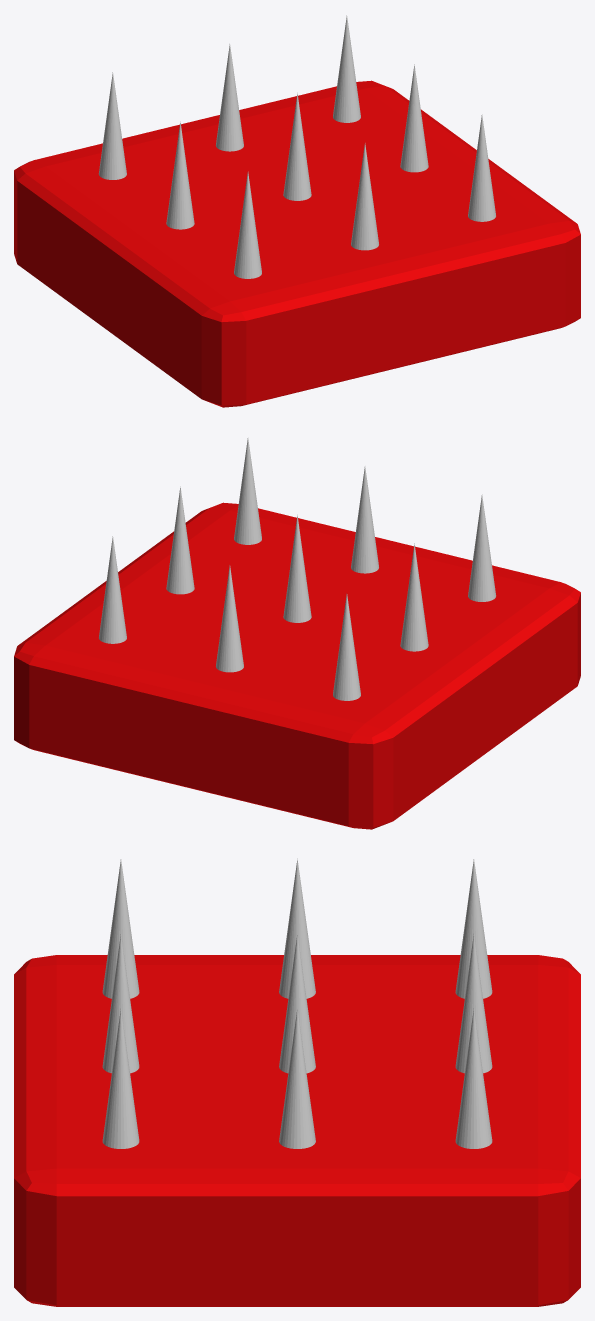
Rendered from hazard.glb.
3 views of the same model, one above another, from view 1: azimuth 30°, elevation 25°; view 2: azimuth 150°, elevation 25°; view 3: azimuth 270°, elevation 25° (orthographic). The views are drawn at different scales.
Parts seen in each view (by area): view 1: hazard, Cone.003, Cone, Cone.006, Cone.001, Cone.002, Cone.004, Cone.005, Cone.007, Cone.008; view 2: hazard, Cone.003, Cone, Cone.006, Cone.002, Cone.001, Cone.005, Cone.004, Cone.007, Cone.008; view 3: hazard, Cone.004, Cone.005, Cone.003, Cone.007, Cone.008, Cone.006, Cone.001, Cone.002, Cone.
Part boxes in pixels (<box>): hazard: <box>14,80,580,407</box>; Cone.003: <box>400,64,428,172</box>; Cone: <box>283,92,311,200</box>; Cone.006: <box>166,121,194,229</box>; Cone.001: <box>351,143,378,250</box>; Cone.002: <box>216,44,243,151</box>; Cone.004: <box>468,114,495,221</box>; Cone.005: <box>333,15,360,122</box>; Cone.007: <box>234,171,261,278</box>; Cone.008: <box>98,72,126,179</box>; hazard: <box>14,502,580,829</box>; Cone.003: <box>166,486,194,594</box>; Cone: <box>283,514,311,622</box>; Cone.006: <box>400,543,428,651</box>; Cone.002: <box>216,565,243,672</box>; Cone.001: <box>351,466,378,573</box>; Cone.005: <box>99,536,126,643</box>; Cone.004: <box>234,437,261,544</box>; Cone.007: <box>468,494,496,601</box>; Cone.008: <box>333,593,360,700</box>; hazard: <box>14,955,580,1306</box>; Cone.004: <box>102,1008,139,1148</box>; Cone.005: <box>455,1008,492,1148</box>; Cone.003: <box>279,1007,315,1148</box>; Cone.007: <box>102,859,139,998</box>; Cone.008: <box>455,859,492,998</box>; Cone.006: <box>279,858,315,998</box>; Cone.001: <box>102,934,139,1073</box>; Cone.002: <box>455,934,492,1073</box>; Cone: <box>279,933,315,1073</box>.
Size of the model in its own units: 2 by 1.02 by 2.
